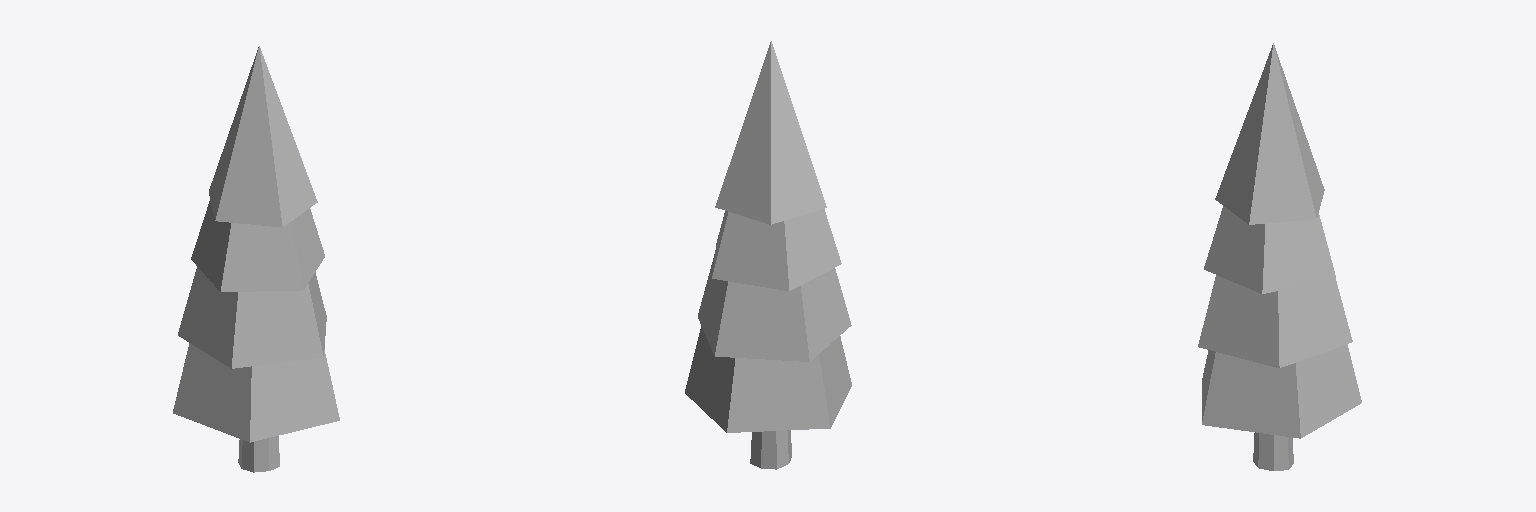
Rendered from tree-pine2.obj.
3 renders of one model, left to right at view 1: azimuth 30°, elevation 25°; view 2: azimuth 150°, elevation 25°; view 3: azimuth 270°, elevation 25°, orthographic.
Parts seen in each view (by area): view 1: stalk_Cube.001; view 2: stalk_Cube.001; view 3: stalk_Cube.001.
Boxes of the visible parts, x1,y1,x2,y2 form: stalk_Cube.001: [173, 46, 339, 472]; stalk_Cube.001: [685, 41, 851, 469]; stalk_Cube.001: [1198, 43, 1361, 470].
Size of the model in its own units: 1.55 by 4.33 by 1.51.